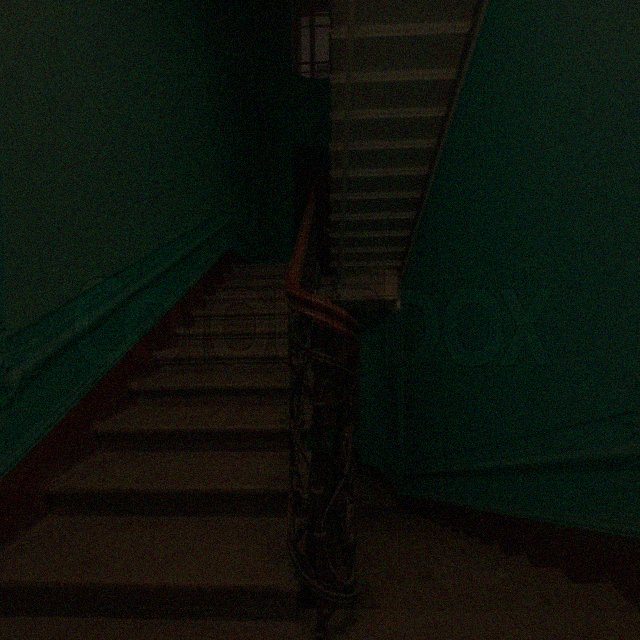stair: (0, 264, 315, 639), (328, 481, 639, 639), (318, 0, 480, 303)
